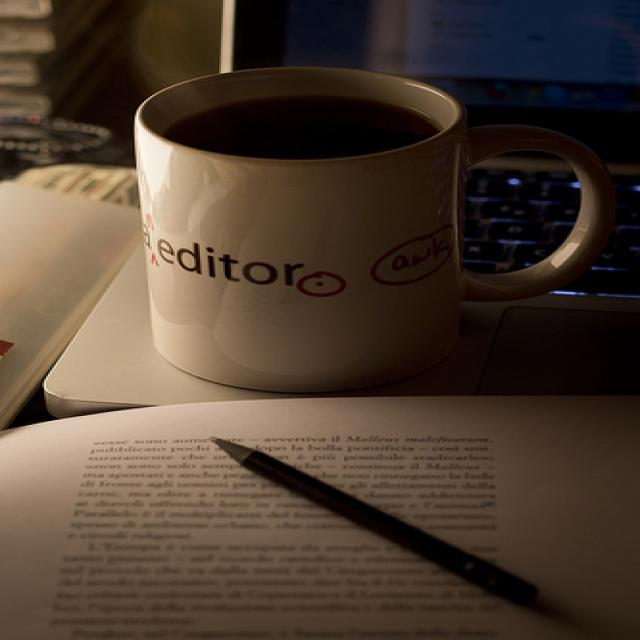Cup: (127, 68, 608, 392)
